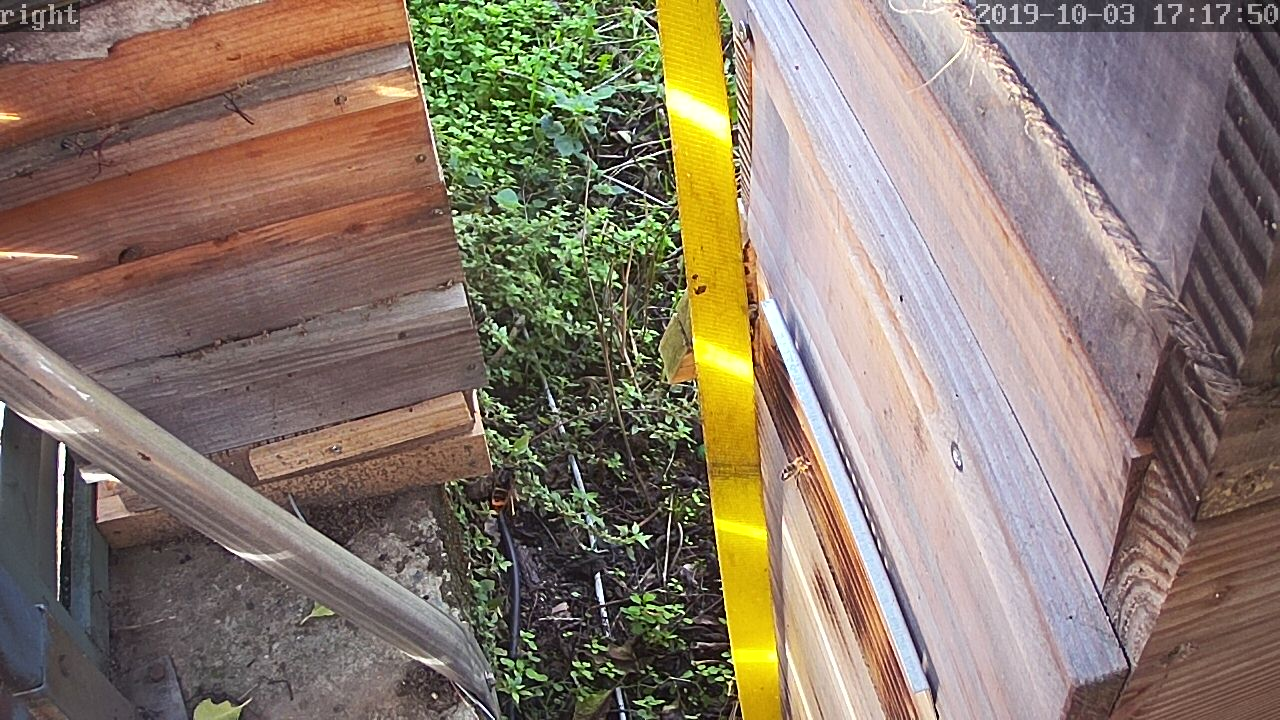bee: (776, 451, 819, 485)
hornet: (487, 458, 520, 518)
